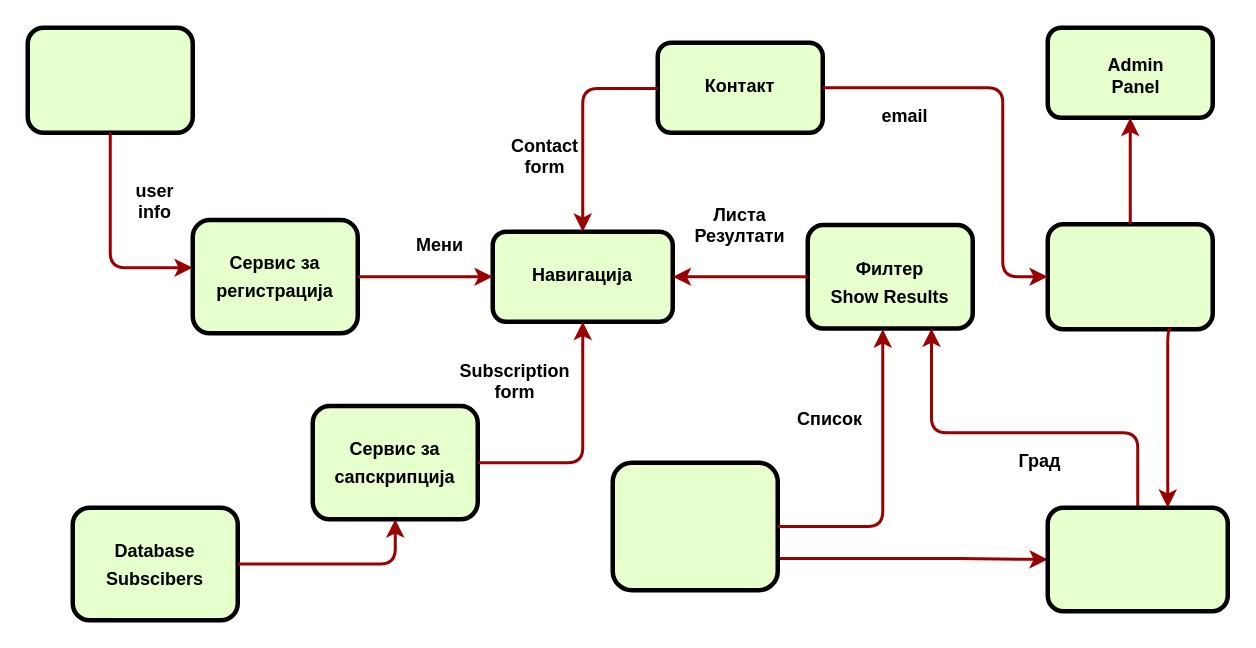
This 1256x648 diagram has some shape labels left out. The shapes that lost their labels are listed below. From the top down, each one's centre as x and y in pixels, then its label:
point (109, 79): AppUI User
point (1129, 276): Admin Service
point (694, 526): Банкомати и Банки Датабаза
point (1137, 559): Locations Градови
